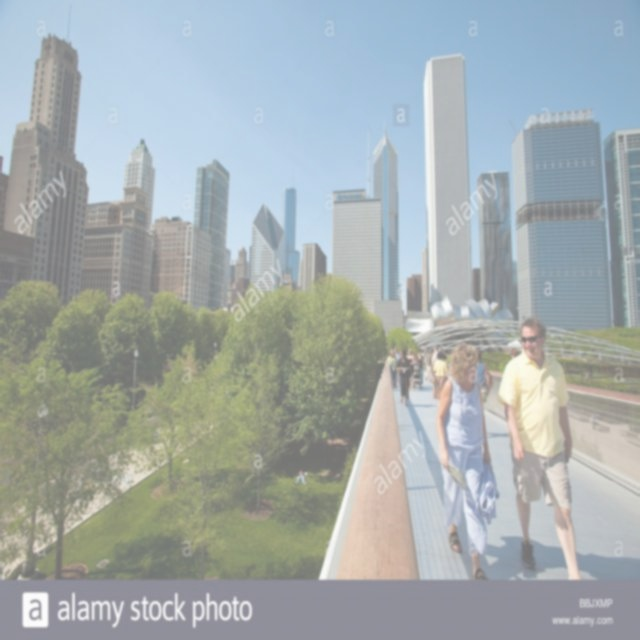pessoa: (497, 316, 585, 581), (435, 341, 502, 588), (482, 530, 640, 582), (395, 348, 412, 408), (474, 348, 490, 410), (433, 351, 449, 399), (484, 423, 512, 445), (387, 348, 398, 392), (424, 348, 434, 382), (406, 348, 414, 390), (416, 349, 424, 387), (430, 345, 440, 369), (510, 344, 521, 360), (420, 351, 426, 374), (393, 346, 401, 362), (412, 352, 418, 364), (413, 368, 420, 376), (412, 351, 417, 359), (430, 350, 436, 356)
